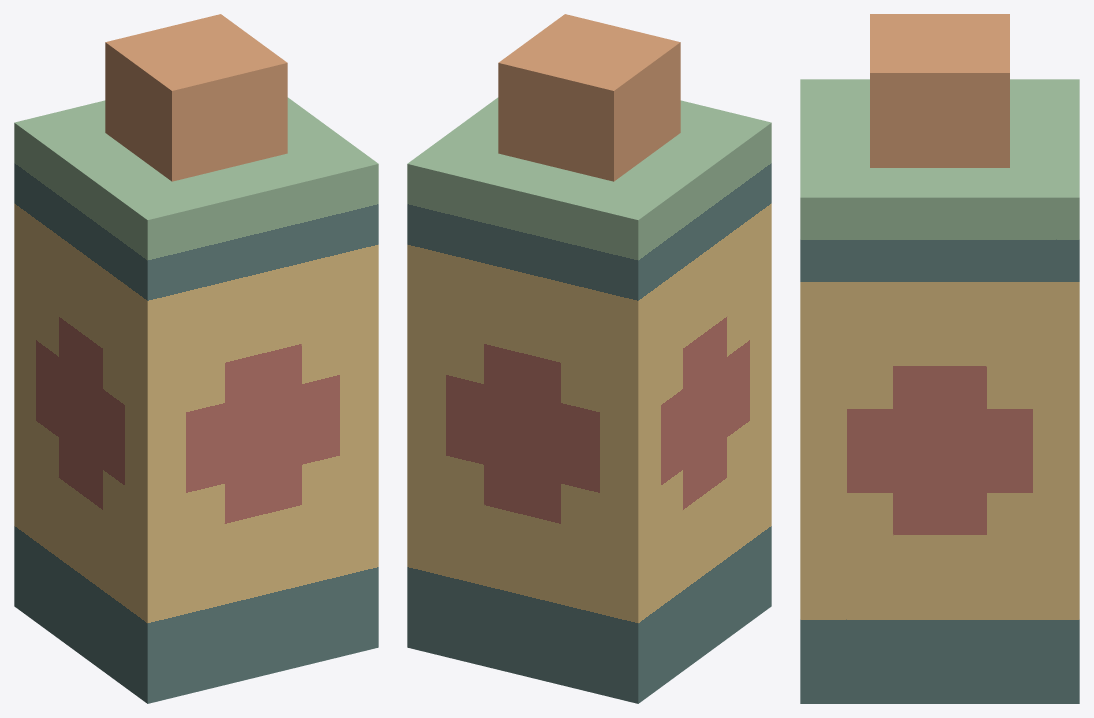
File: spirt_item.fbx
3 renders of one model, left to right at view 1: azimuth 30°, elevation 25°; view 2: azimuth 150°, elevation 25°; view 3: azimuth 270°, elevation 25°, orthographic. The views are drawn at different scales.
Visible parts, largest first — view 1: 59d373dc-d236-ab01-630e-6fee92846bb1, 79ddf838-d857-533e-c43f-57fceeba1714; view 2: 59d373dc-d236-ab01-630e-6fee92846bb1, 79ddf838-d857-533e-c43f-57fceeba1714; view 3: 59d373dc-d236-ab01-630e-6fee92846bb1, 79ddf838-d857-533e-c43f-57fceeba1714.
Boxes of the visible parts, x1,y1,x2,y2 form: 59d373dc-d236-ab01-630e-6fee92846bb1: (14, 97, 378, 703); 79ddf838-d857-533e-c43f-57fceeba1714: (105, 14, 287, 181); 59d373dc-d236-ab01-630e-6fee92846bb1: (407, 97, 771, 703); 79ddf838-d857-533e-c43f-57fceeba1714: (498, 14, 680, 181); 59d373dc-d236-ab01-630e-6fee92846bb1: (800, 79, 1079, 703); 79ddf838-d857-533e-c43f-57fceeba1714: (870, 14, 1009, 167).
Size of the model in its own units: 12.5 by 29.69 by 12.5.
Materials: 1 (1 with a texture image).
